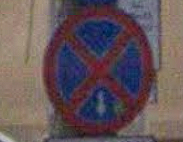oprirea_interzisa: (44, 8, 154, 135)
